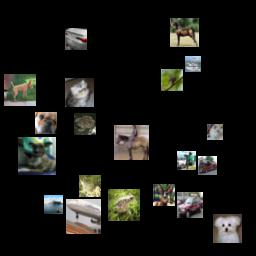airplane: (66, 199, 101, 234)
automobile: (177, 192, 203, 218), (65, 28, 87, 50)
bird: (161, 69, 183, 91)
cat: (65, 78, 94, 107), (207, 124, 223, 140)
deer: (153, 184, 175, 206)
dog: (18, 137, 56, 175), (4, 74, 36, 106), (213, 214, 242, 243), (35, 112, 57, 134)
frog: (108, 189, 140, 221), (74, 113, 96, 135), (79, 175, 101, 197)
ship: (44, 195, 63, 214), (185, 56, 201, 72)
truck: (198, 156, 217, 175), (177, 151, 196, 170)
